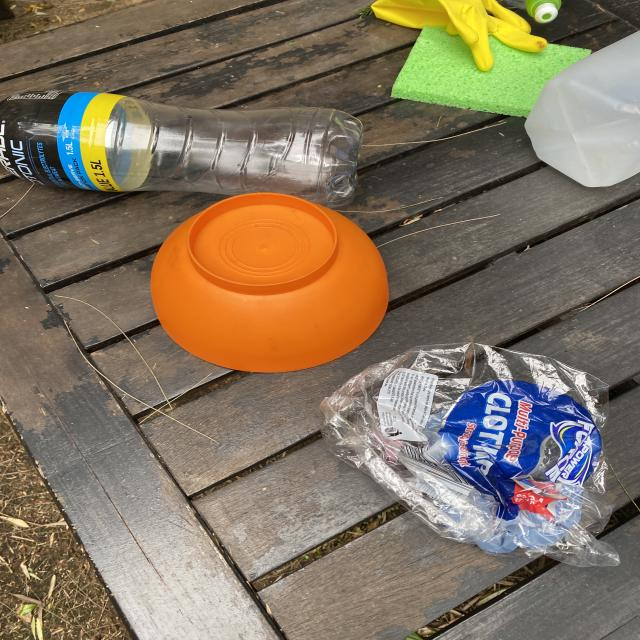bottle: (0, 88, 364, 208), (523, 29, 640, 188)
bowl: (151, 191, 391, 373)
glove: (370, 0, 546, 70)
sponge: (391, 25, 593, 118)
wrappers: (323, 342, 621, 568)
